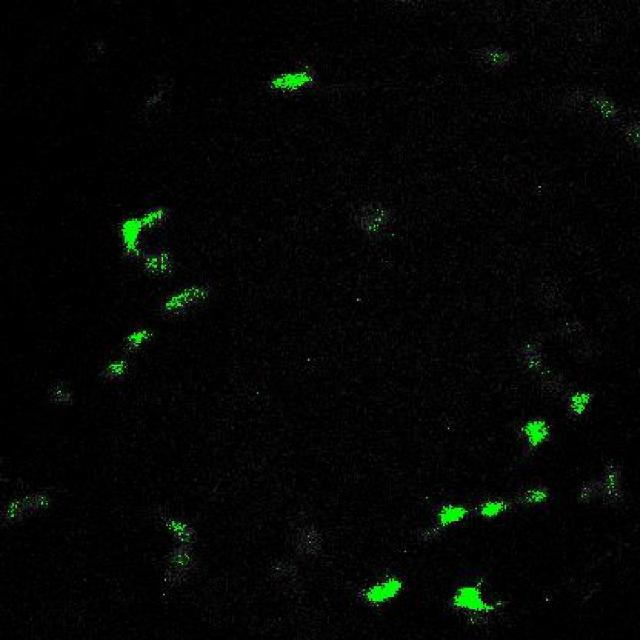Cell: (120, 215, 146, 258), (361, 578, 399, 602), (274, 70, 310, 92), (523, 418, 548, 447), (437, 503, 468, 525), (457, 585, 480, 610)
